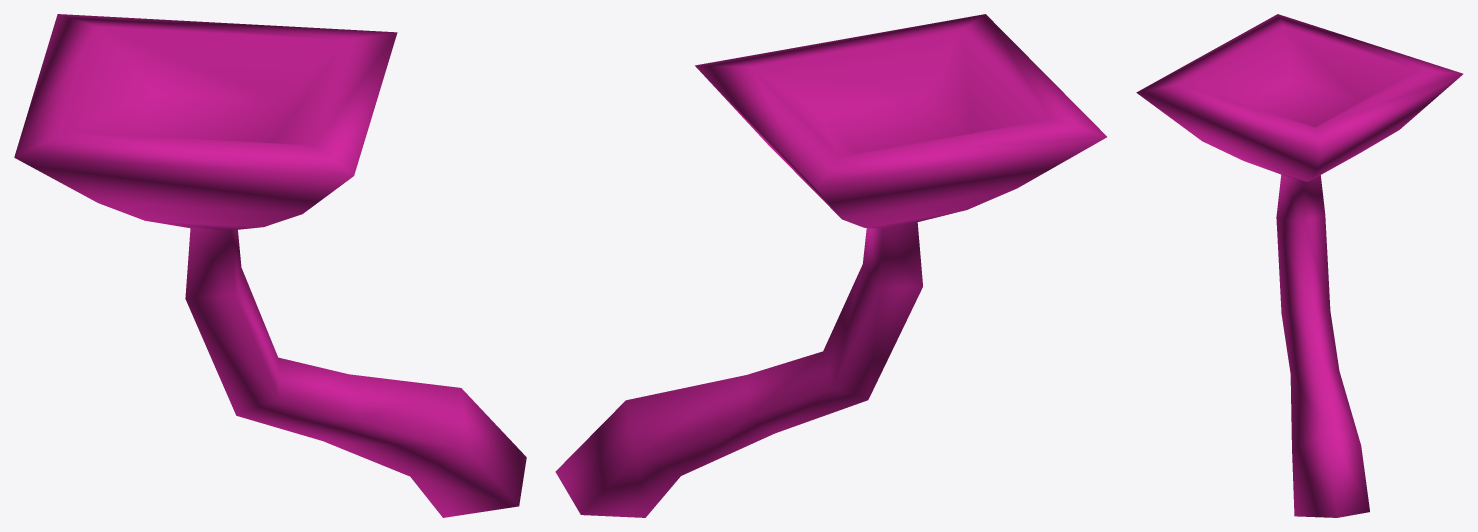
File: fungus pinkpink small.obj
3 renders of one model, left to right at view 1: azimuth 30°, elevation 25°; view 2: azimuth 150°, elevation 25°; view 3: azimuth 270°, elevation 25°, orthographic. The views are drawn at different scales.
Parts seen in each view (by area): view 1: fungo.017; view 2: fungo.017; view 3: fungo.017.
Boxes of the visible parts, x1=… form: fungo.017: x1=14, y1=14, x2=526, y2=517; fungo.017: x1=555, y1=14, x2=1106, y2=517; fungo.017: x1=1136, y1=14, x2=1463, y2=517.
Bounding box in the file's own units: 0.8398 × 0.7347 × 0.628.
